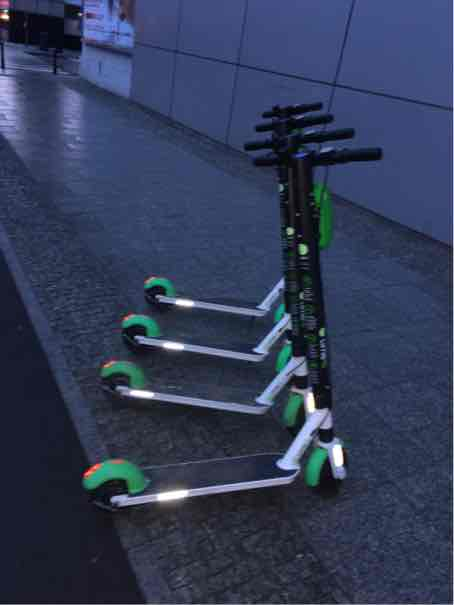too close: (68, 443, 159, 522)
